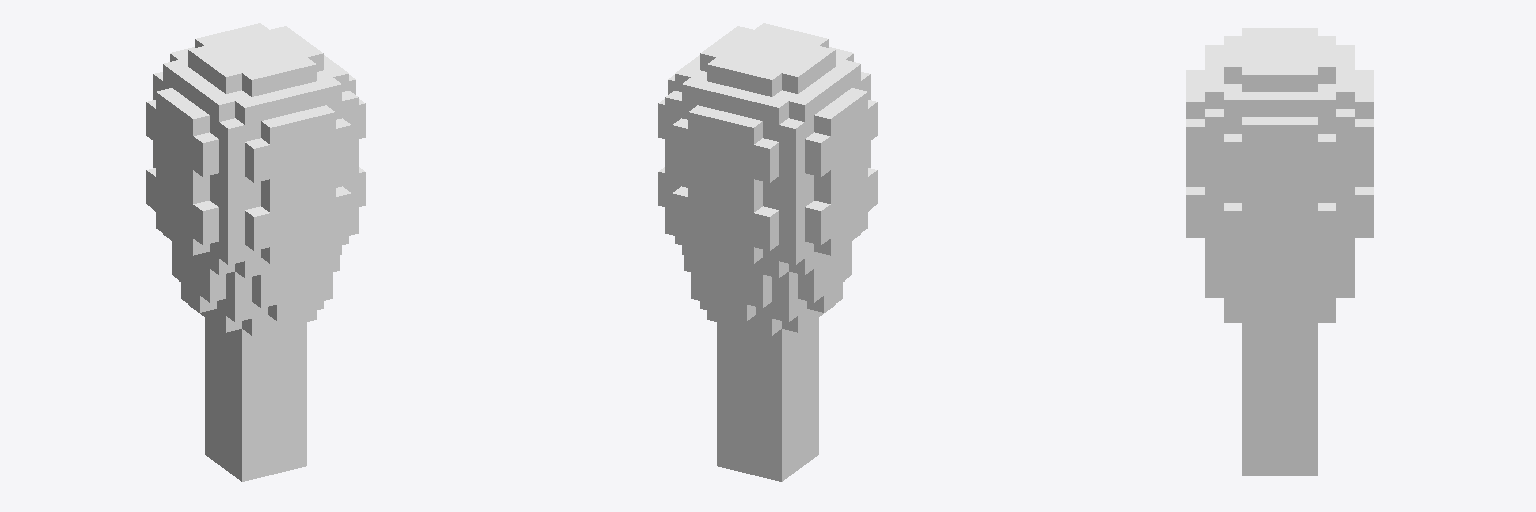
File: TreeCentered.obj
3 views of the same model, side by side, from view 1: azimuth 30°, elevation 25°; view 2: azimuth 150°, elevation 25°; view 3: azimuth 270°, elevation 25° (orthographic).
Bounding box in the file's own units: 10 × 24 × 10.